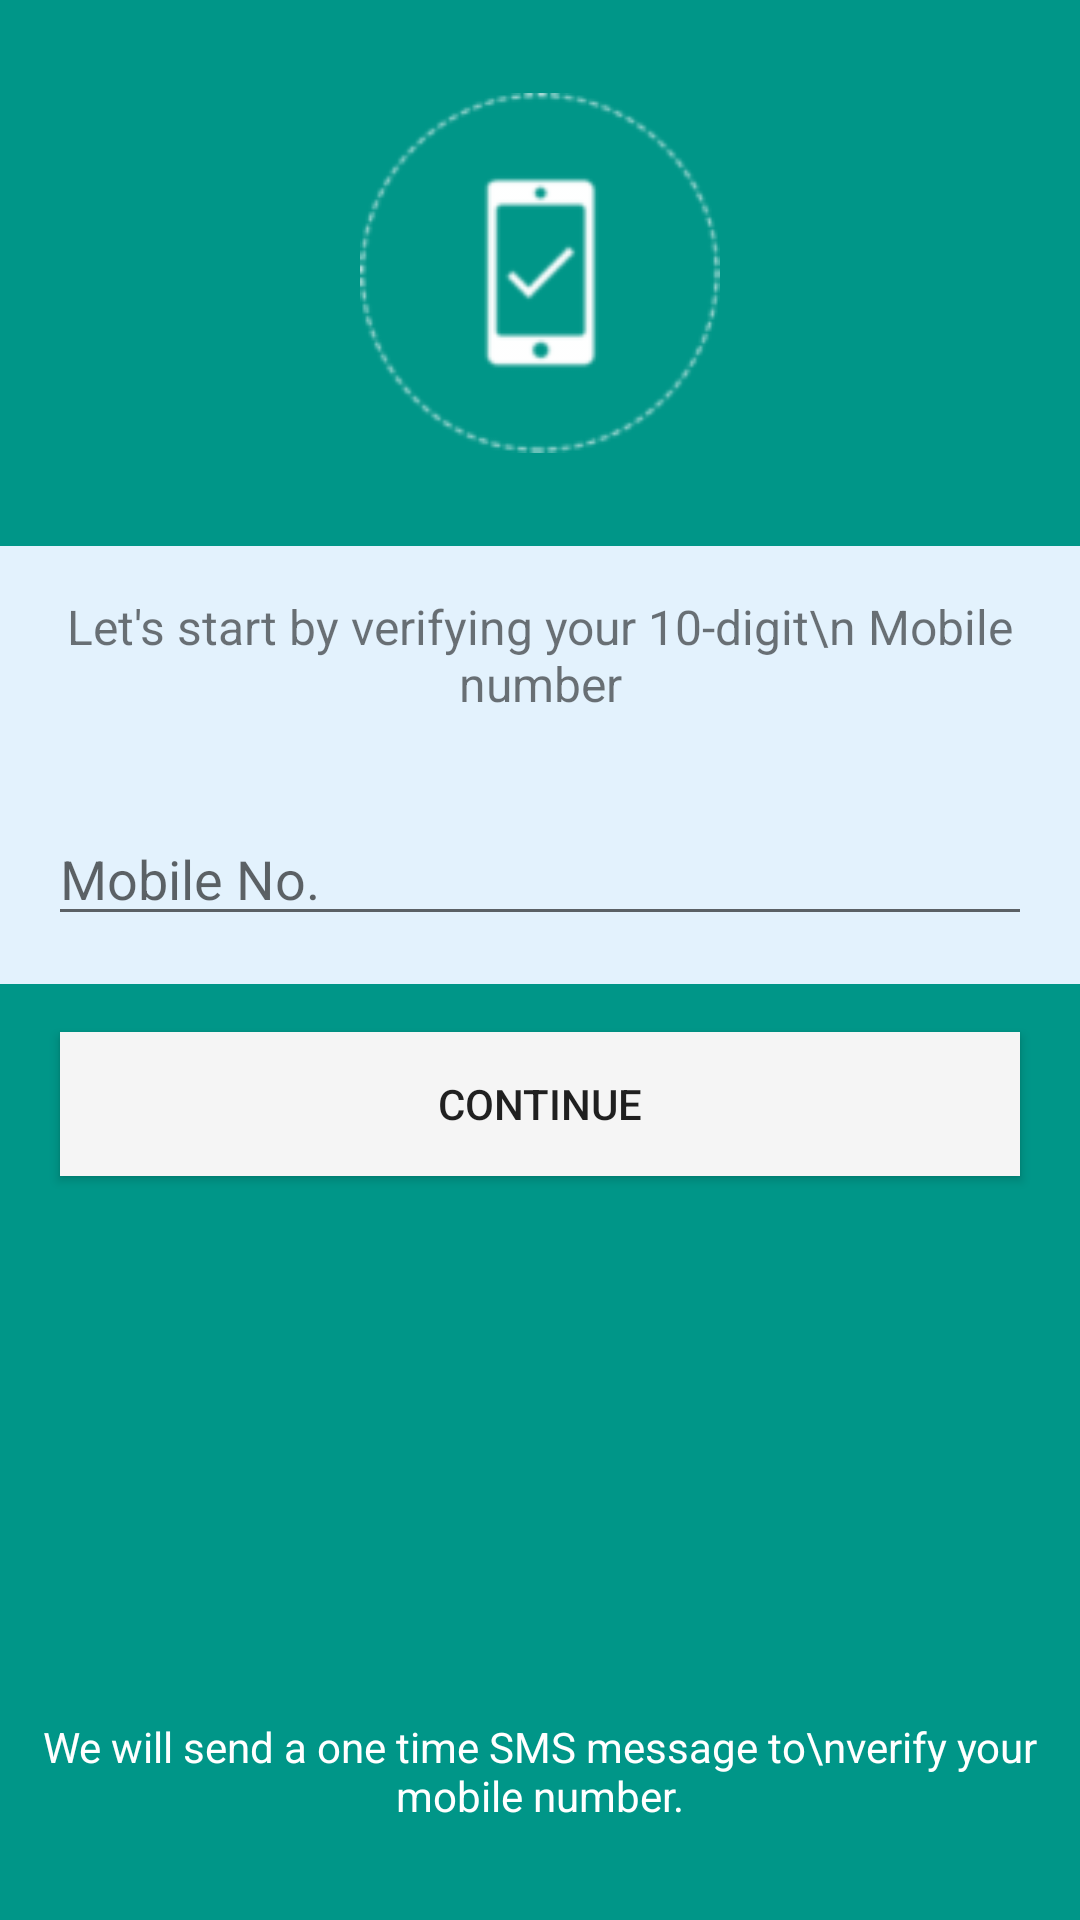

Screen size 1080×1920. Icon name, then its box in pixels as (x1, y1, x2, y2):
mobile verified: (360, 93, 720, 453)
